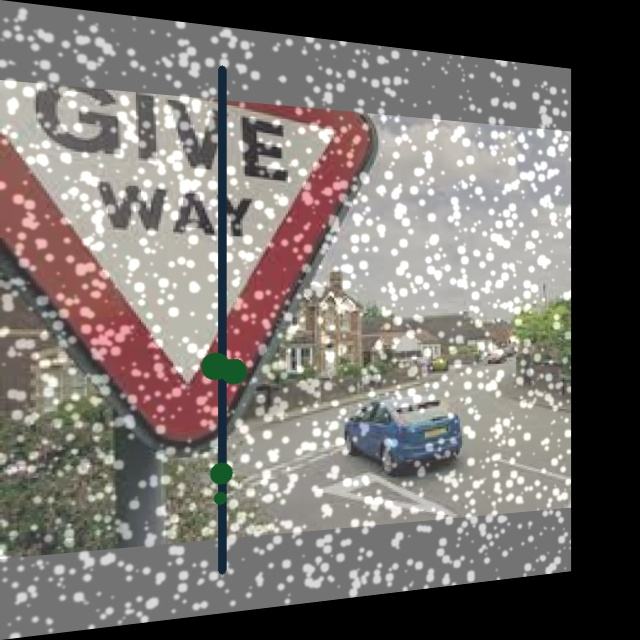Give_Way: (9, 80, 354, 401)
